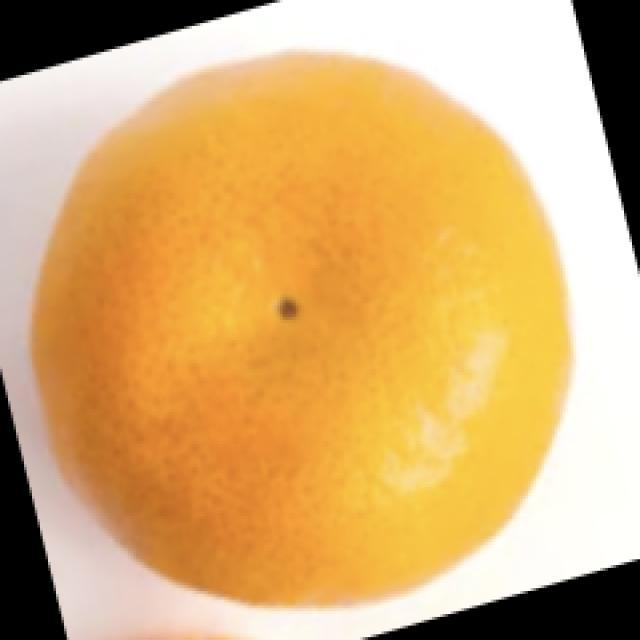matang: (33, 55, 569, 604)
